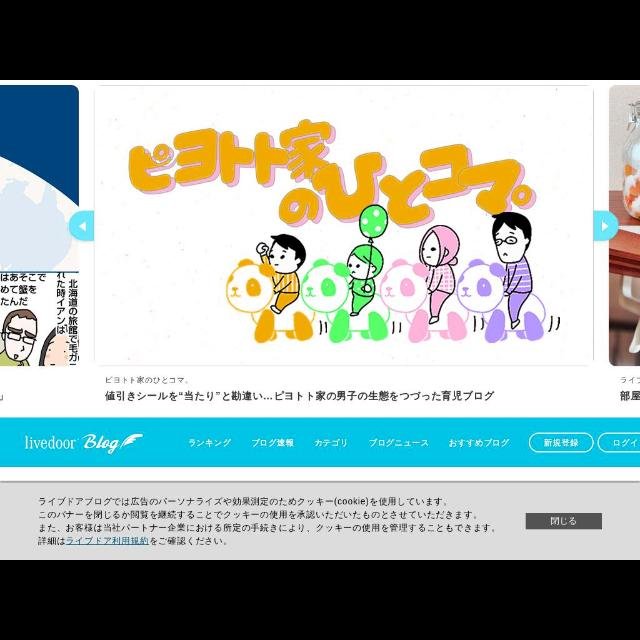button: (69, 212, 95, 242), (594, 212, 618, 240)
icon: (120, 434, 144, 448), (80, 222, 86, 232), (602, 222, 608, 232)
iframe: (0, 482, 640, 560)
image: (94, 87, 594, 366), (0, 86, 78, 366), (609, 86, 639, 366)
link: (66, 536, 150, 546)
text: (39, 496, 494, 546), (105, 391, 495, 402), (24, 434, 76, 450), (80, 434, 118, 452), (369, 438, 429, 448), (105, 378, 188, 384), (449, 439, 509, 447), (252, 438, 294, 448), (316, 438, 348, 448), (190, 439, 230, 446), (620, 390, 640, 400), (621, 376, 639, 384)
textbutton: (530, 432, 594, 453), (526, 513, 604, 529), (598, 433, 640, 452)
toolbar: (187, 432, 638, 452)
